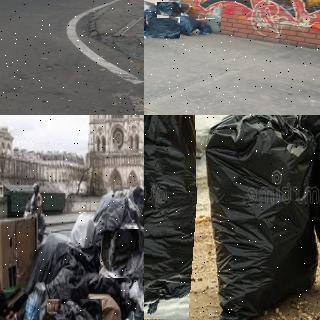Garbage: (196, 115, 320, 320), (144, 115, 219, 320), (100, 228, 144, 278), (47, 299, 102, 320), (70, 210, 95, 246), (146, 18, 180, 39), (173, 15, 203, 37), (157, 3, 181, 19)
